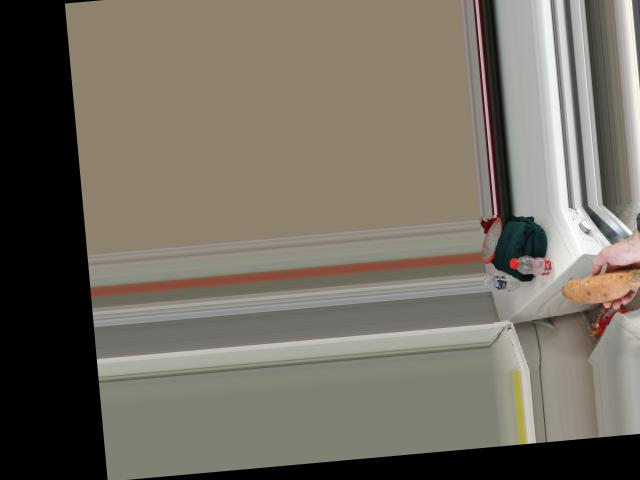sweet_potato: (562, 268, 640, 308)
